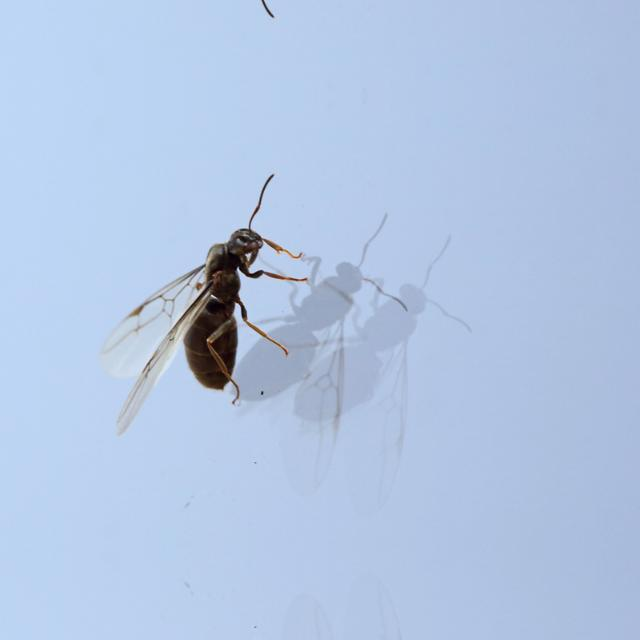Lasius: (143, 180, 273, 406)
